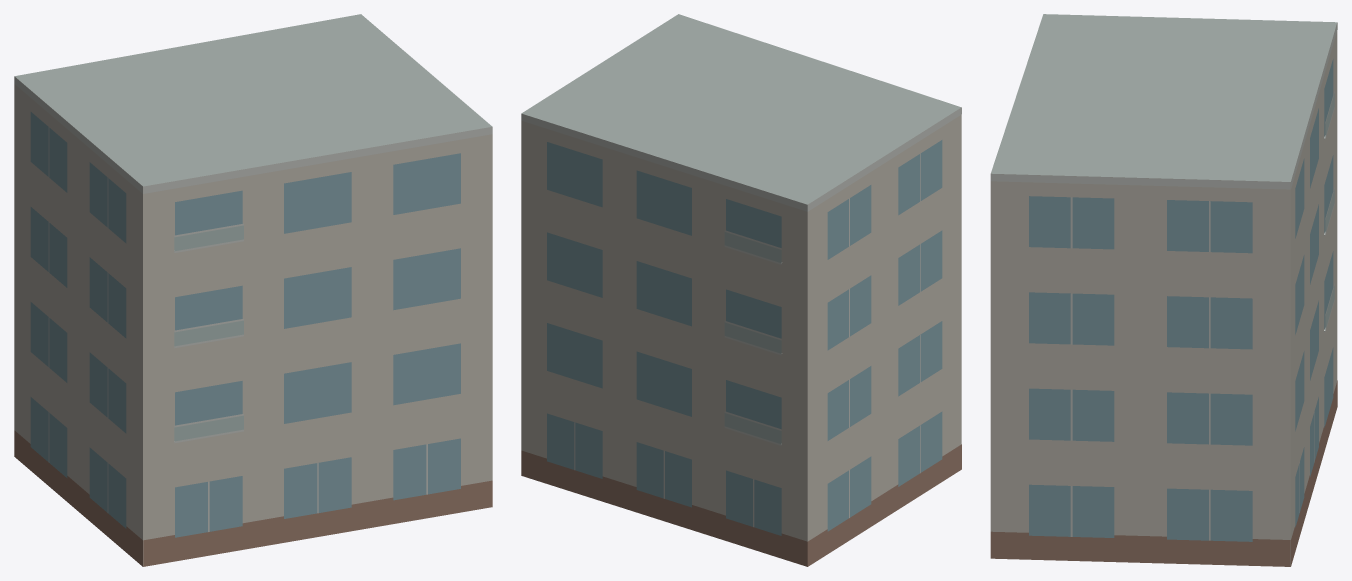
File: survey-upis-32631104.glb
3 views of the same model, side by side, from view 1: azimuth 30°, elevation 25°; view 2: azimuth 150°, elevation 25°; view 3: azimuth 270°, elevation 25° (orthographic). The views are drawn at different scales.
Parts seen in each view (by area): view 1: survey-upis-32631104.tmp; view 2: survey-upis-32631104.tmp; view 3: survey-upis-32631104.tmp.
Boxes of the visible parts, x1,y1,x2,y2 form: survey-upis-32631104.tmp: (14,14,492,566); survey-upis-32631104.tmp: (521,14,961,566); survey-upis-32631104.tmp: (990,14,1337,566).
Size of the model in its own units: 11.62 by 12.4 by 10.14.
